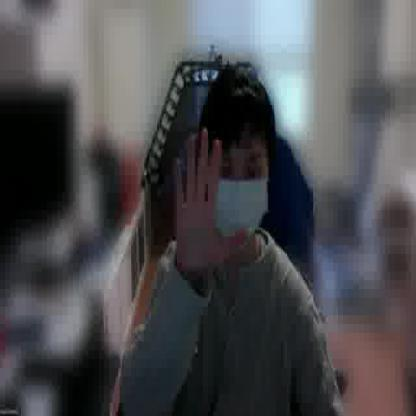five: (172, 125, 250, 278)
